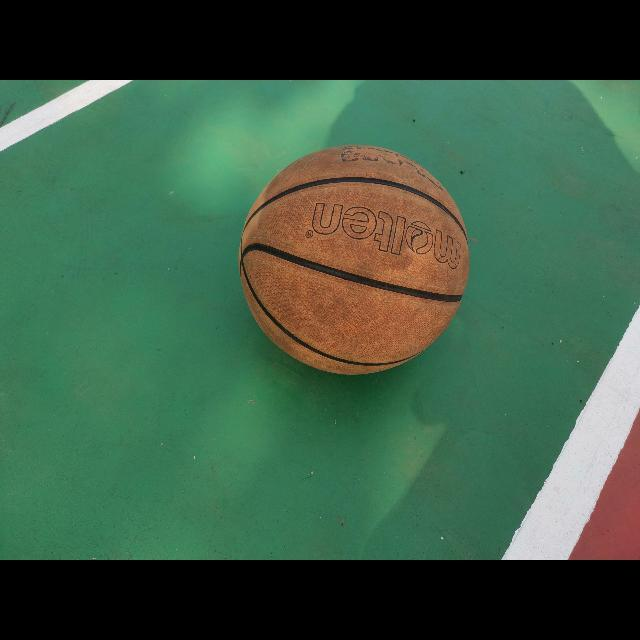basketball: (238, 147, 470, 375)
